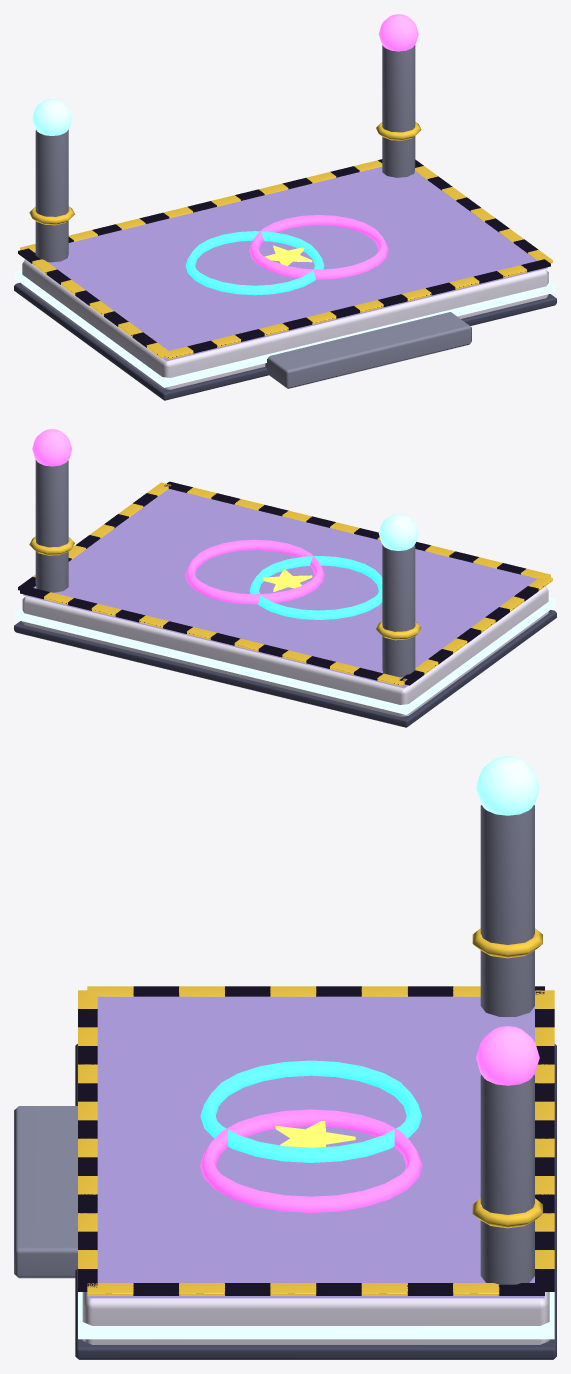
File: fusion_stage.glb
The picture shows the model from 3 angles, top to bottom: view 1: azimuth 30°, elevation 25°; view 2: azimuth 150°, elevation 25°; view 3: azimuth 270°, elevation 25°; orthographic projection. The views are drawn at different scales.
Visible parts, largest first — view 1: Stage; view 2: Stage; view 3: Stage.
Part boxes in pixels (x1=…): Stage: x1=14, y1=14, x2=556, y2=400; Stage: x1=14, y1=429, x2=556, y2=727; Stage: x1=14, y1=756, x2=556, y2=1359.
Size of the model in its own units: 2.96 by 1.41 by 2.21.
